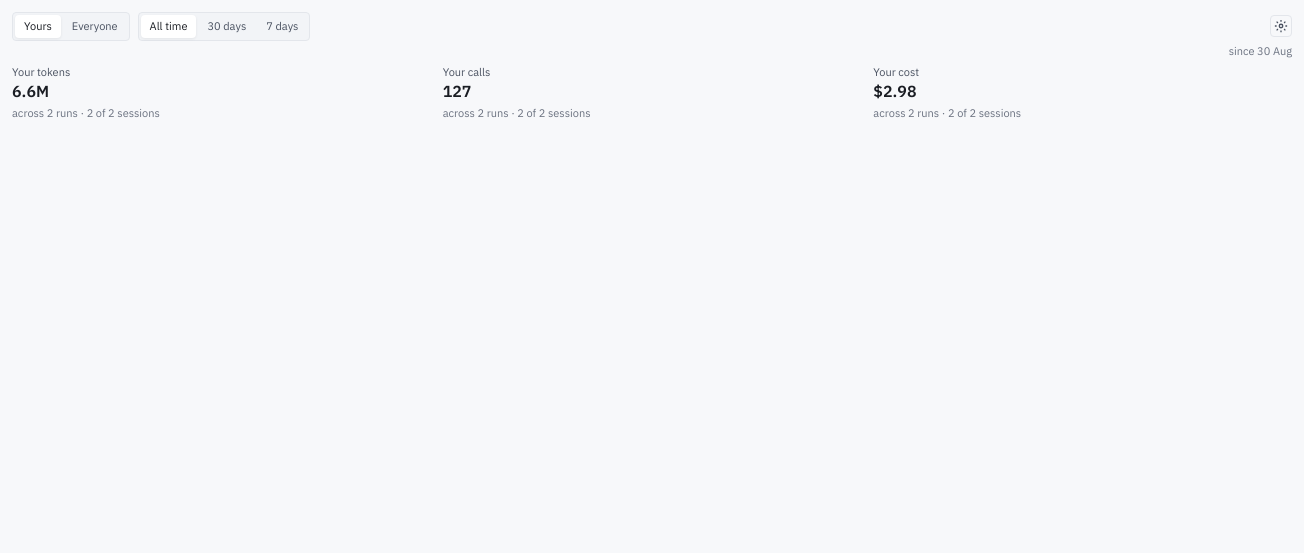
Test: MetricBlock — the picker › says which refusal is in force, in the group’s own name
The width and height of the screenshot is (1304, 553).
Click the button with test id "metric-picker-toggle": point(1281, 26) [1270,15,1292,37]
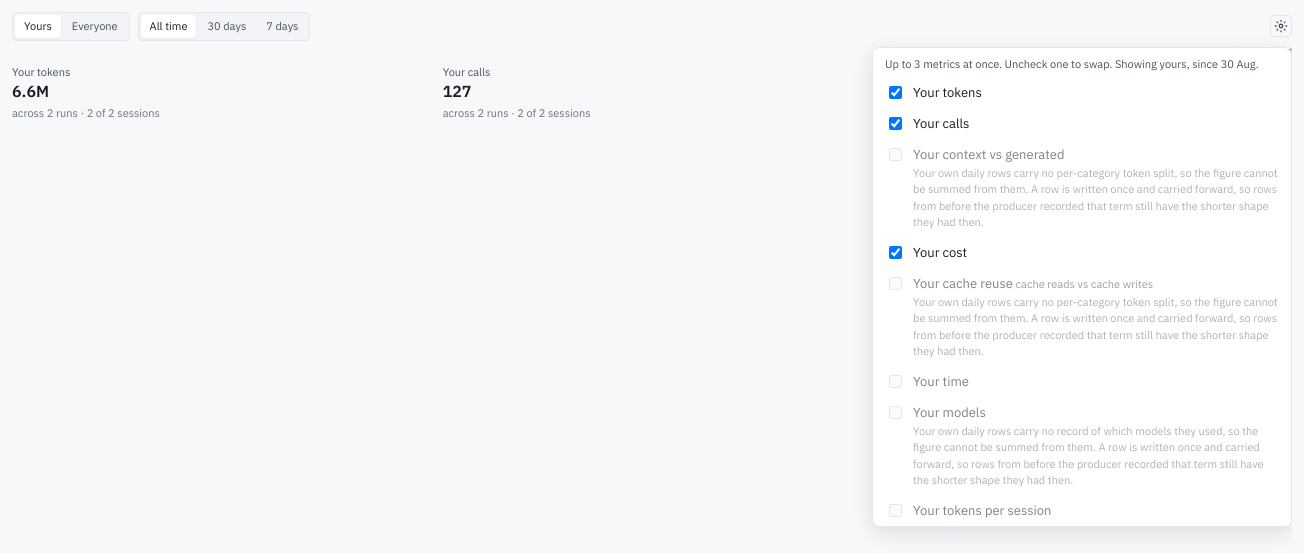
Now the text with test id "metric-picker-caption" shows "Uncheck one to swap", box [885,56,1259,70]
Click the checkbox labelled "Your tokens": point(896, 92) [889,86,902,98]
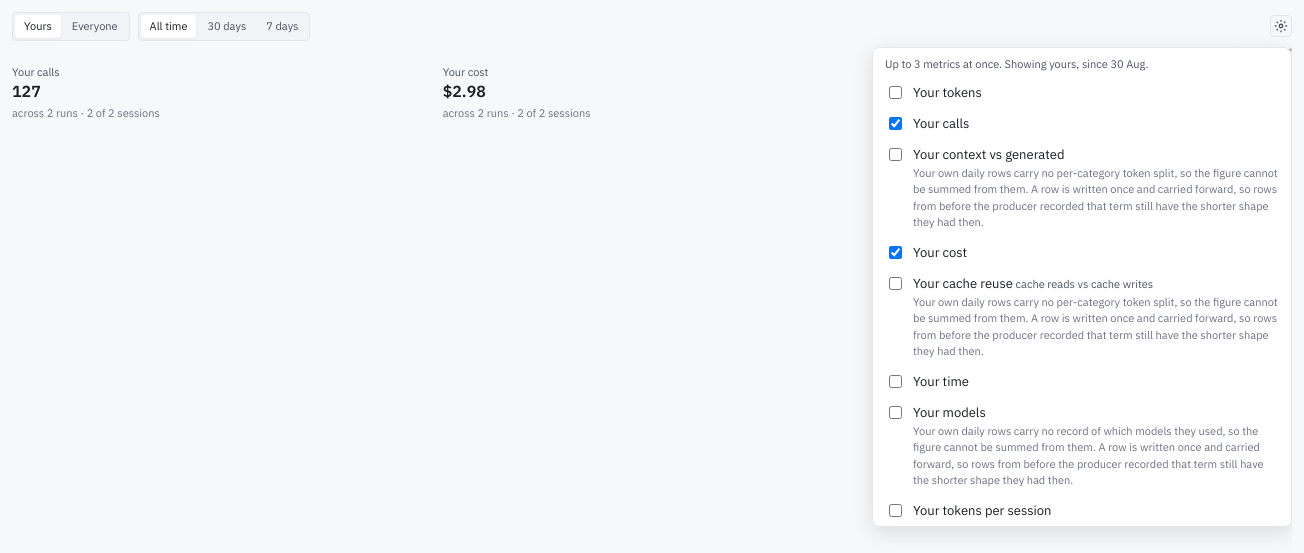
Now the text with test id "metric-picker-caption" no longer shows "Uncheck one to swap"
Click the checkbox labelled "Your calls": point(896, 123) [889,116,902,130]
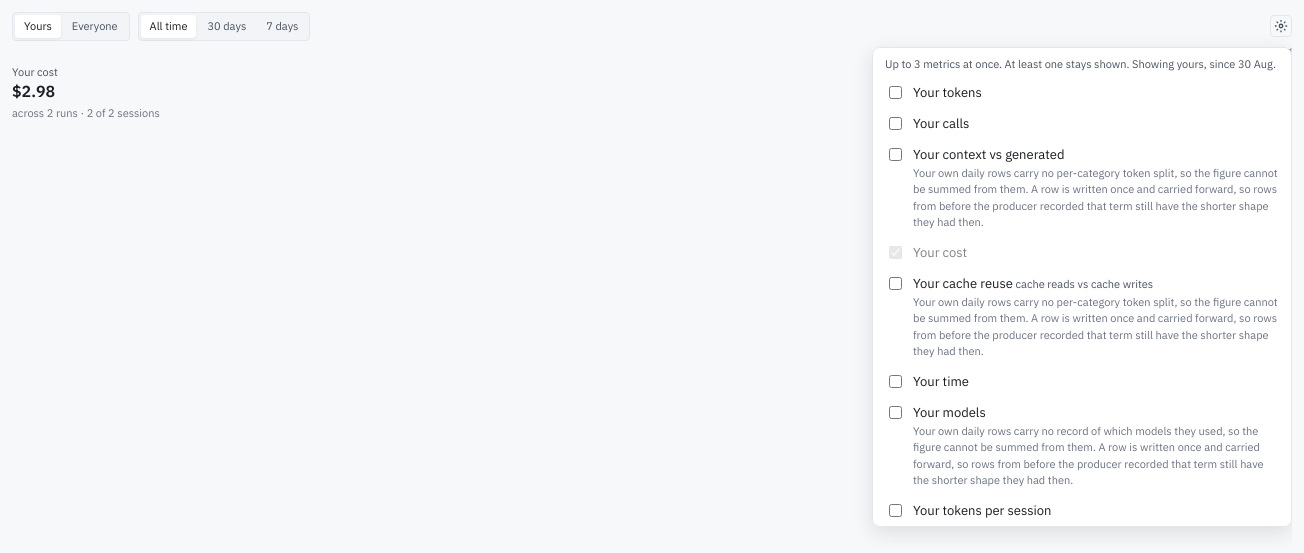
Now the text with test id "metric-picker-caption" shows "At least one stays shown", box [885,56,1276,70]
